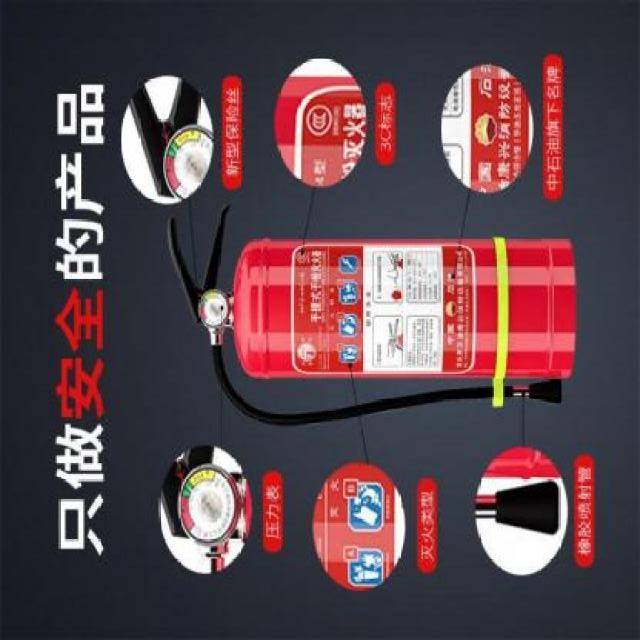fire extinguisher: (168, 200, 577, 429)
